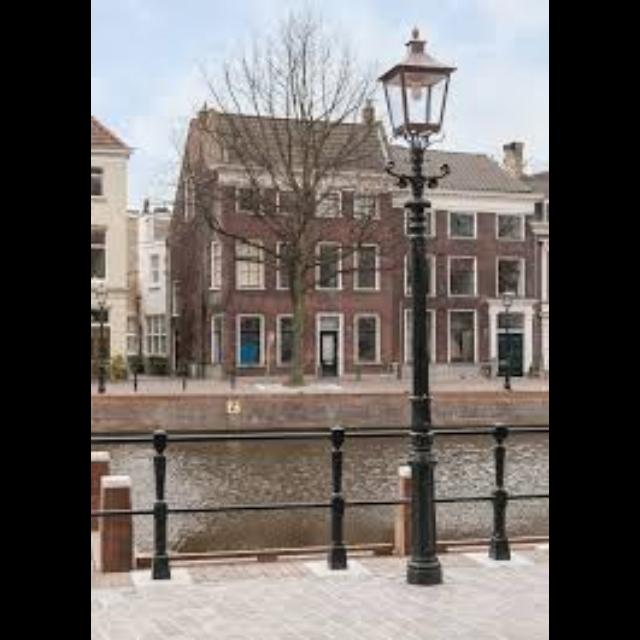Street-Lamp: (376, 14, 458, 586)
